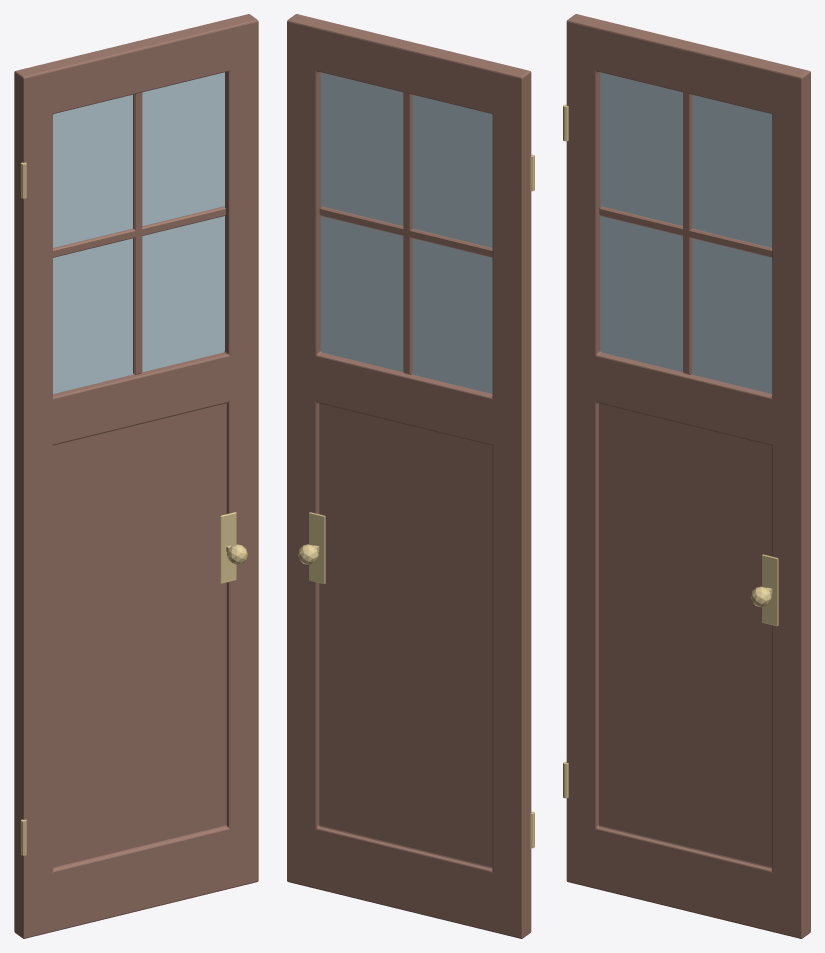
The model's file is door_leaf_entry.glb.
The picture shows the model from 3 angles, left to right: view 1: azimuth 30°, elevation 25°; view 2: azimuth 150°, elevation 25°; view 3: azimuth 330°, elevation 25°; orthographic projection.
Parts seen in each view (by area): view 1: door_leaf_entry_door, door_leaf_entry_glass, door_leaf_entry_brass; view 2: door_leaf_entry_door, door_leaf_entry_glass, door_leaf_entry_brass; view 3: door_leaf_entry_door, door_leaf_entry_glass, door_leaf_entry_brass.
Boxes of the visible parts, x1,y1,x2,y2 form: door_leaf_entry_door: (14, 14, 258, 938); door_leaf_entry_glass: (53, 72, 224, 393); door_leaf_entry_brass: (21, 162, 247, 855); door_leaf_entry_door: (287, 14, 531, 938); door_leaf_entry_glass: (320, 72, 492, 393); door_leaf_entry_brass: (298, 154, 534, 848); door_leaf_entry_door: (566, 14, 810, 938); door_leaf_entry_glass: (600, 72, 772, 393); door_leaf_entry_brass: (563, 104, 778, 798).
Size of the model in its own units: 0.728 by 2.52 by 0.206.
